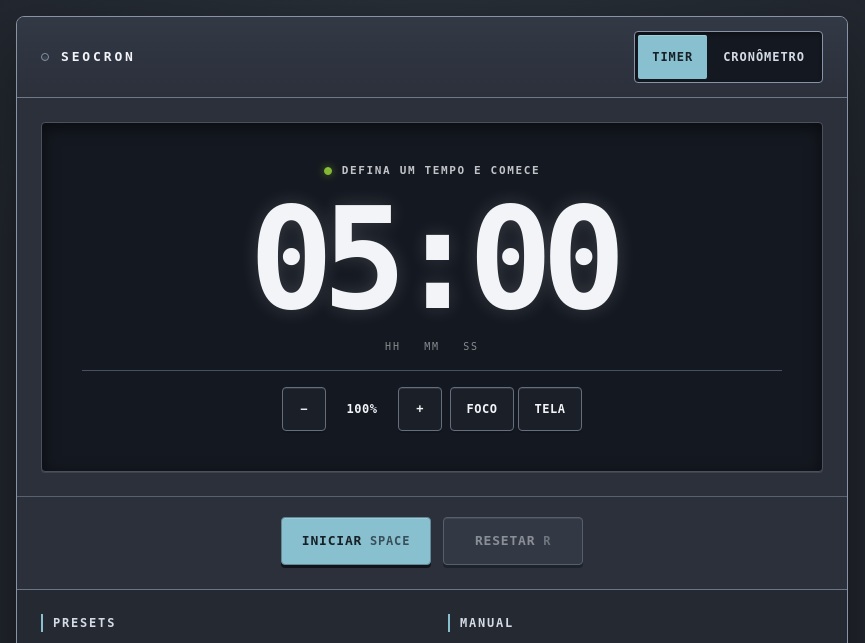
Test: App › resets the active Stopwatch with the keyboard shortcut
This screenshot has width=865, height=643.
Click the button "Cronômetro" at (764, 57), box [709,35,819,79]
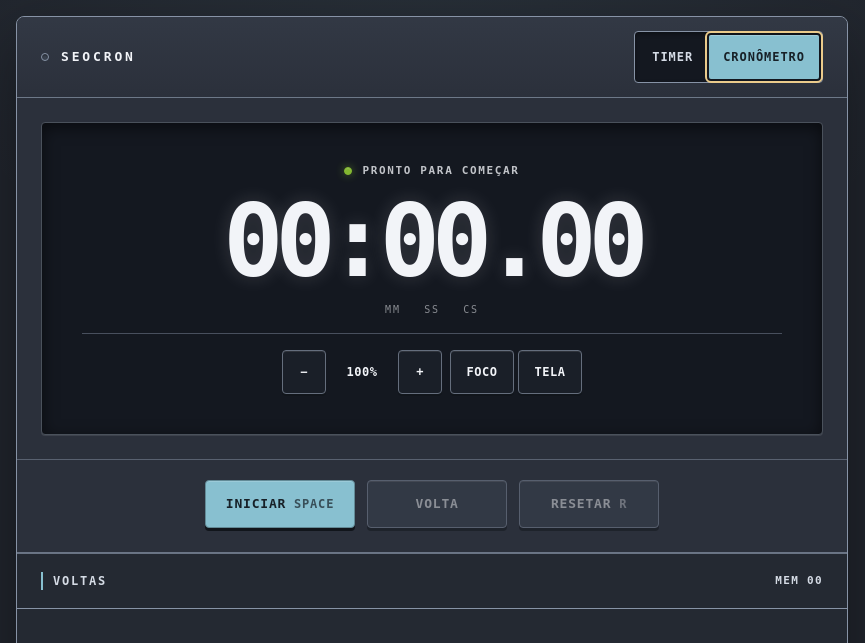
Click the button with aria-label "Iniciar Cronômetro" at (280, 504), box [205,480,355,528]
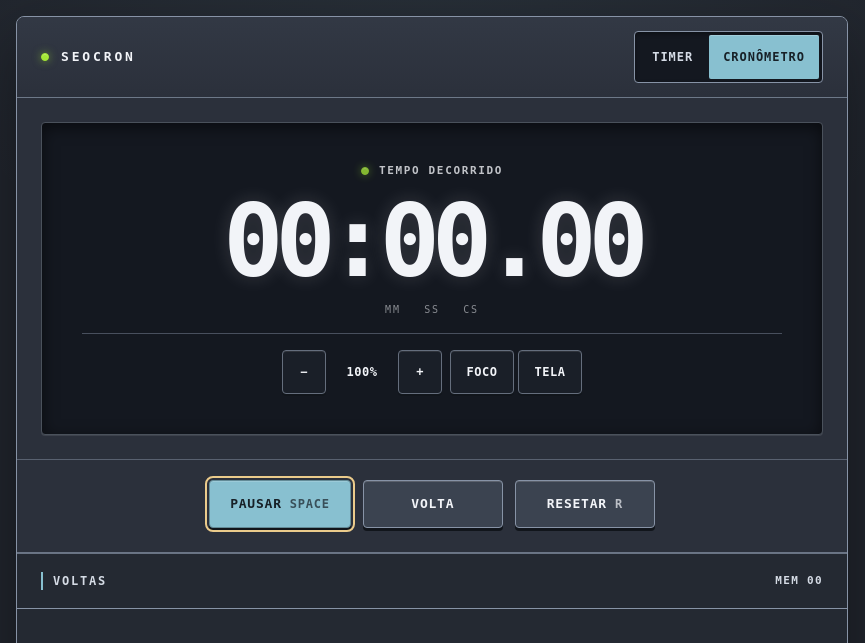
Press r
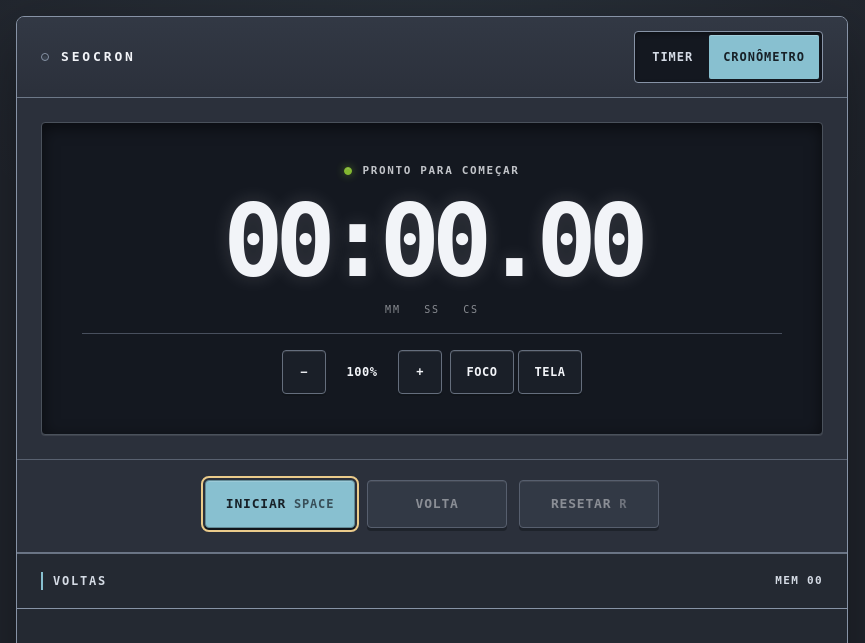
Expected: the button with aria-label "Iniciar Cronômetro" is shown, [205,480,355,528]
